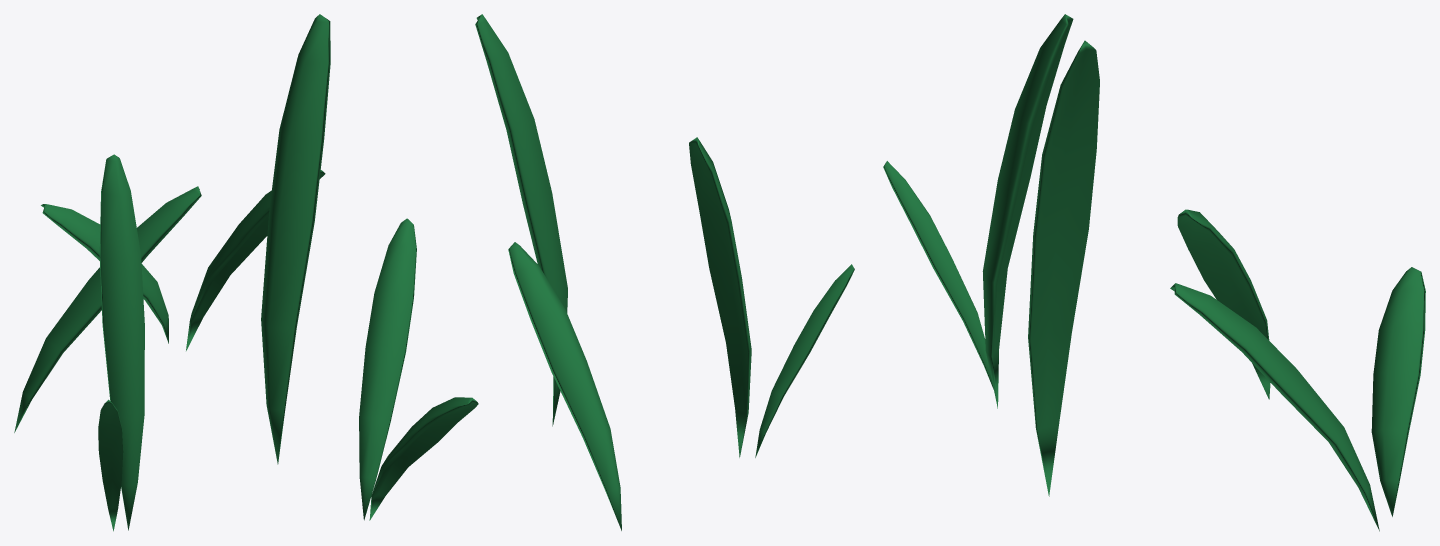
File: leaf_B.fbx
3 views of the same model, side by side, from view 1: azimuth 30°, elevation 25°; view 2: azimuth 150°, elevation 25°; view 3: azimuth 270°, elevation 25° (orthographic). The views are drawn at different scales.
Visible parts, largest first — view 1: leaf_B_full; view 2: leaf_B_full; view 3: leaf_B_full.
Part boxes in pixels (box(x1,y1,x2,y2)): leaf_B_full: box(14, 14, 330, 531); leaf_B_full: box(359, 14, 854, 530); leaf_B_full: box(883, 14, 1425, 531).
Size of the model in its own units: 0.2632 by 0.3139 by 0.31.
